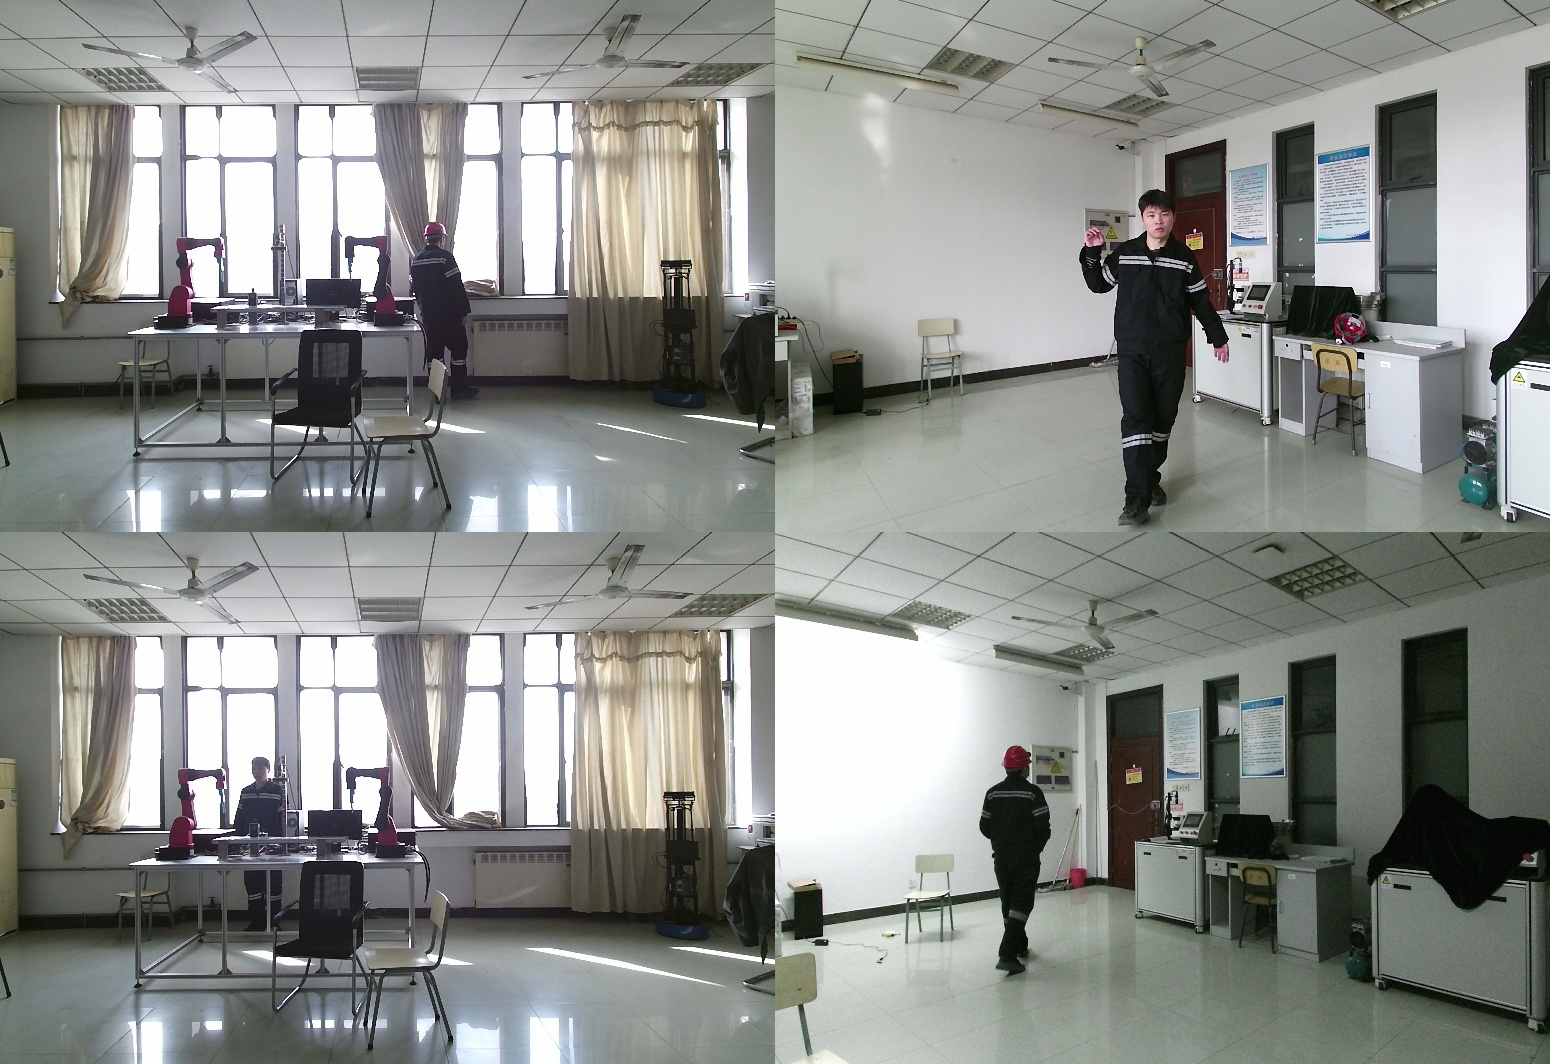person: (1080, 191, 1232, 521), (974, 746, 1061, 980), (407, 223, 480, 407), (233, 758, 288, 941)
